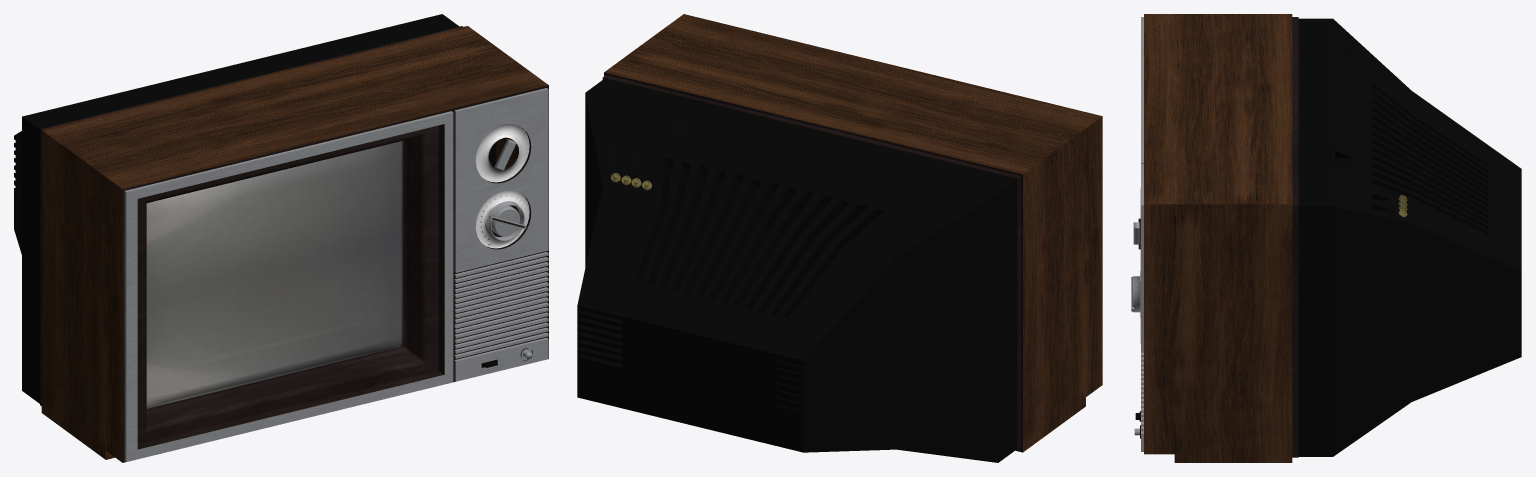
The model's file is sharp-vintage-tv.glb.
3 renders of one model, left to right at view 1: azimuth 30°, elevation 25°; view 2: azimuth 150°, elevation 25°; view 3: azimuth 270°, elevation 25°, orthographic. The views are drawn at different scales.
Parts seen in each view (by area): view 1: Cube, Cube.001; view 2: Cube.001, Cube; view 3: Cube.001, Cube.
Boxes of the visible parts, x1,y1,x2,y2 form: Cube: [40, 26, 548, 462]; Cube.001: [14, 14, 495, 403]; Cube.001: [577, 79, 1016, 462]; Cube: [602, 14, 1102, 452]; Cube.001: [1298, 18, 1521, 456]; Cube: [1131, 14, 1298, 462].
Size of the model in its own units: 0.9282 by 0.589 by 0.8051.
Materials: 9 (6 with a texture image).
